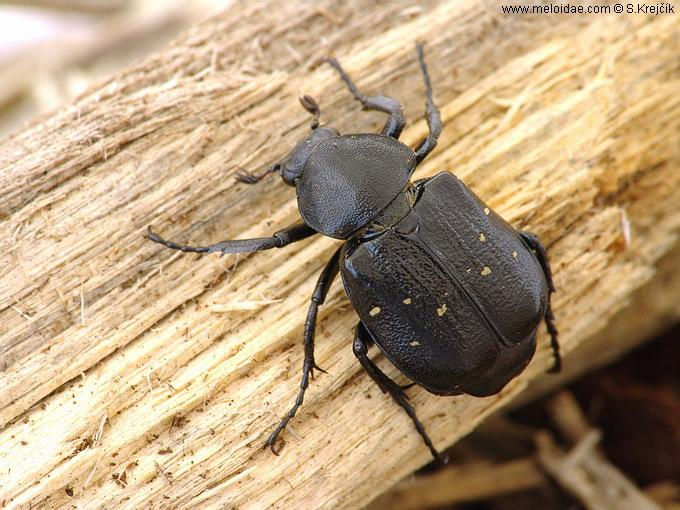Gnorimus_variabilis: (130, 33, 567, 473)
